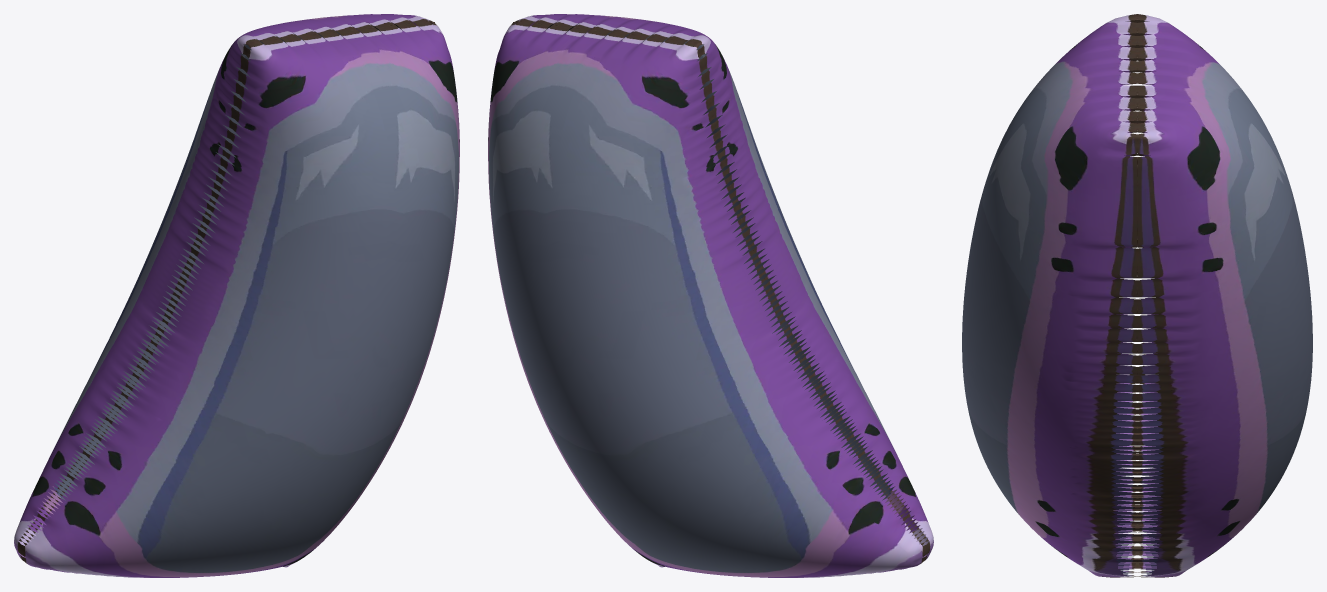
Rendered from purple_ramp.glb.
3 renders of one model, left to right at view 1: azimuth 30°, elevation 25°; view 2: azimuth 150°, elevation 25°; view 3: azimuth 270°, elevation 25°, orthographic. The views are drawn at different scales.
Parts seen in each view (by area): view 1: purple_ramp; view 2: purple_ramp; view 3: purple_ramp.
Boxes of the visible parts, <box> form: purple_ramp: <box>14,14,459,577</box>; purple_ramp: <box>488,14,933,577</box>; purple_ramp: <box>962,14,1312,577</box>.
Bounding box in the file's own units: 0.9871 × 1.16 × 0.671.
Materials: 1 (1 with a texture image).
